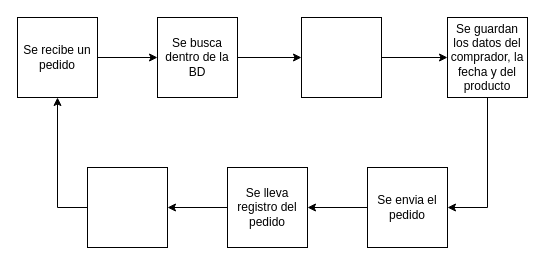
This 545x265 diagram has some shape labels left out. Each missing label, with the centre of its shape:
El pedido llega al comprador: (127,207)
Se modifican los detalles del prod en la BD: (341,57)
